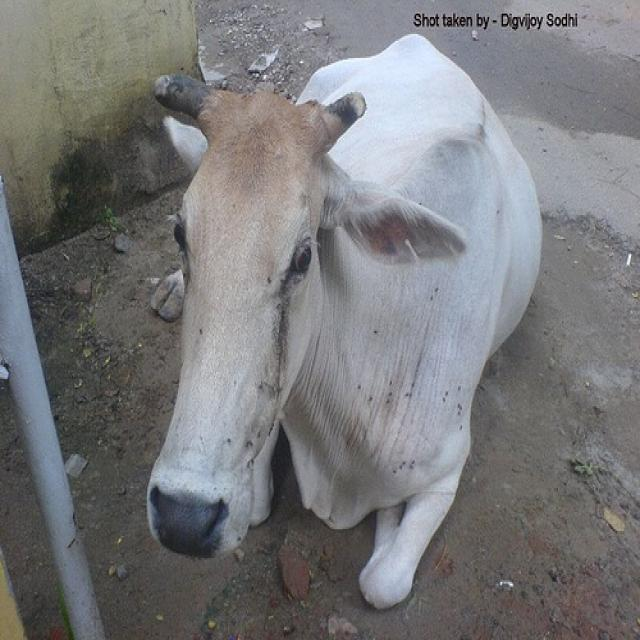cow: (145, 34, 542, 613)
